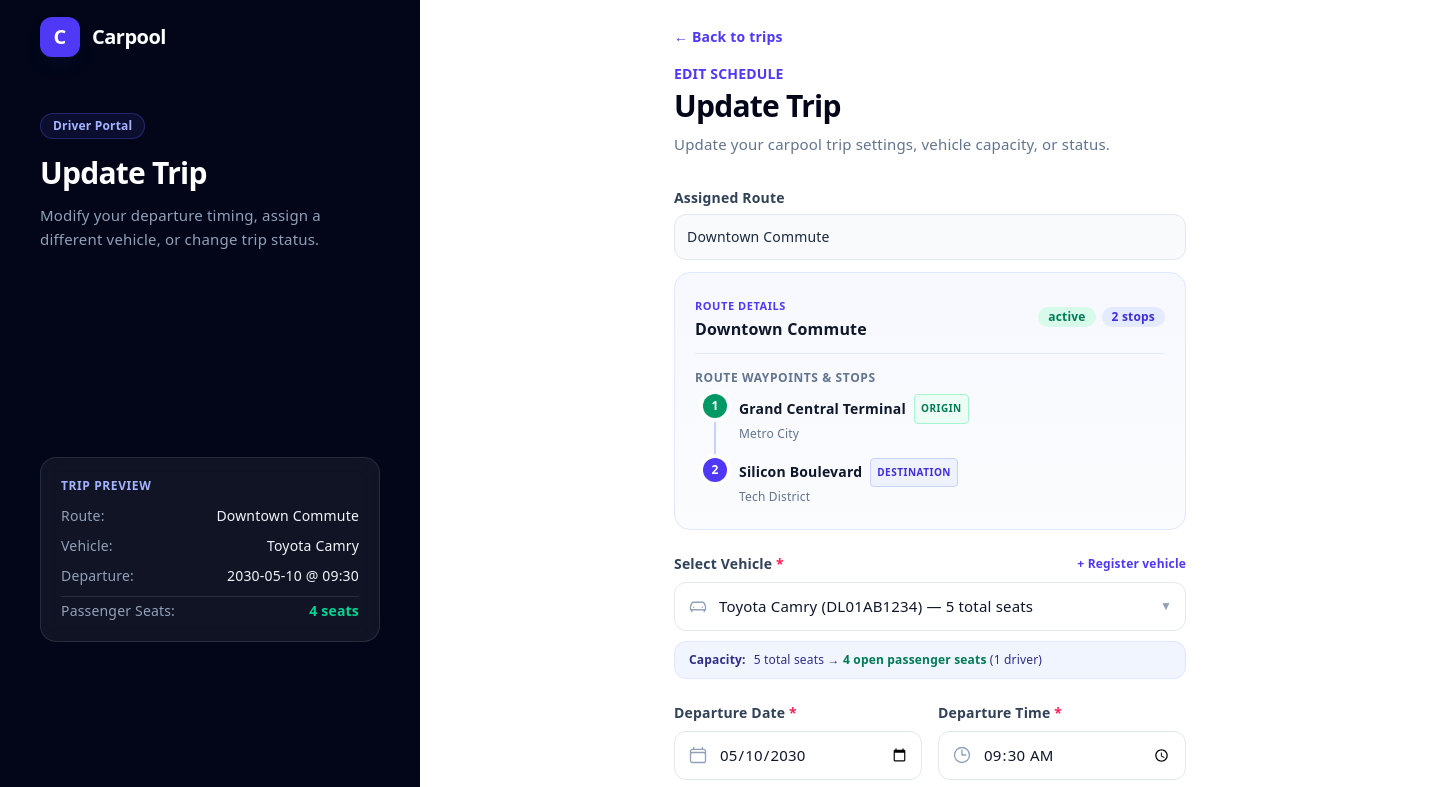
it: EditTripPage › loads existing trip, displays assigned route stops below, and saves updates
Check: the heading "Update Trip" below "Edit Schedule" is shown, box [674,85,841,126]
Check: the text "Grand Central Terminal" is shown, box [739,399,906,419]
// Change departure time
Replace the text in the time field labelled "Departure Time *" with "11:00" at (1062, 756), box [938,731,1186,780]
(page scrolled)
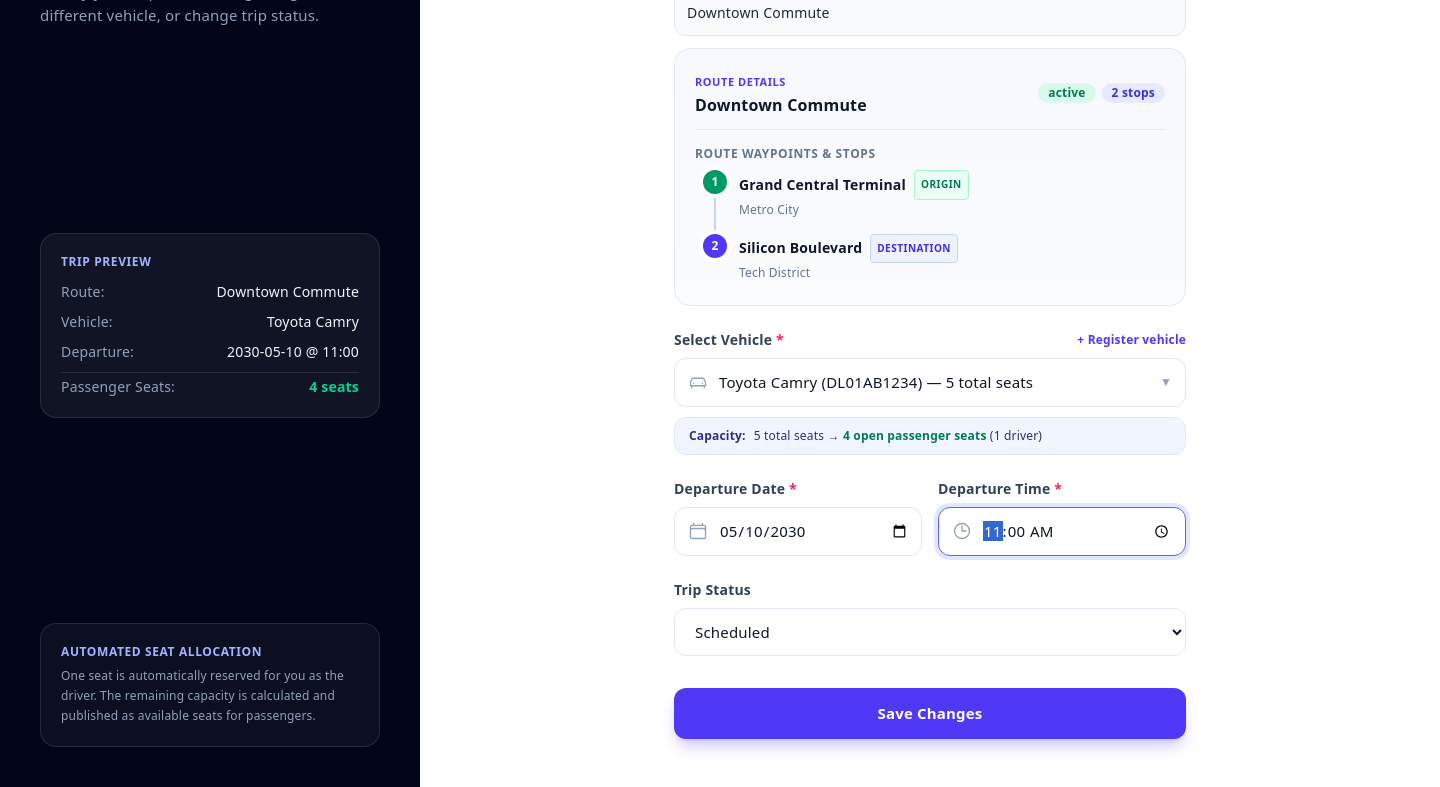
// Submit form
Click the button "Save Changes" at (930, 714), box [674,688,1186,739]
(page scrolled)
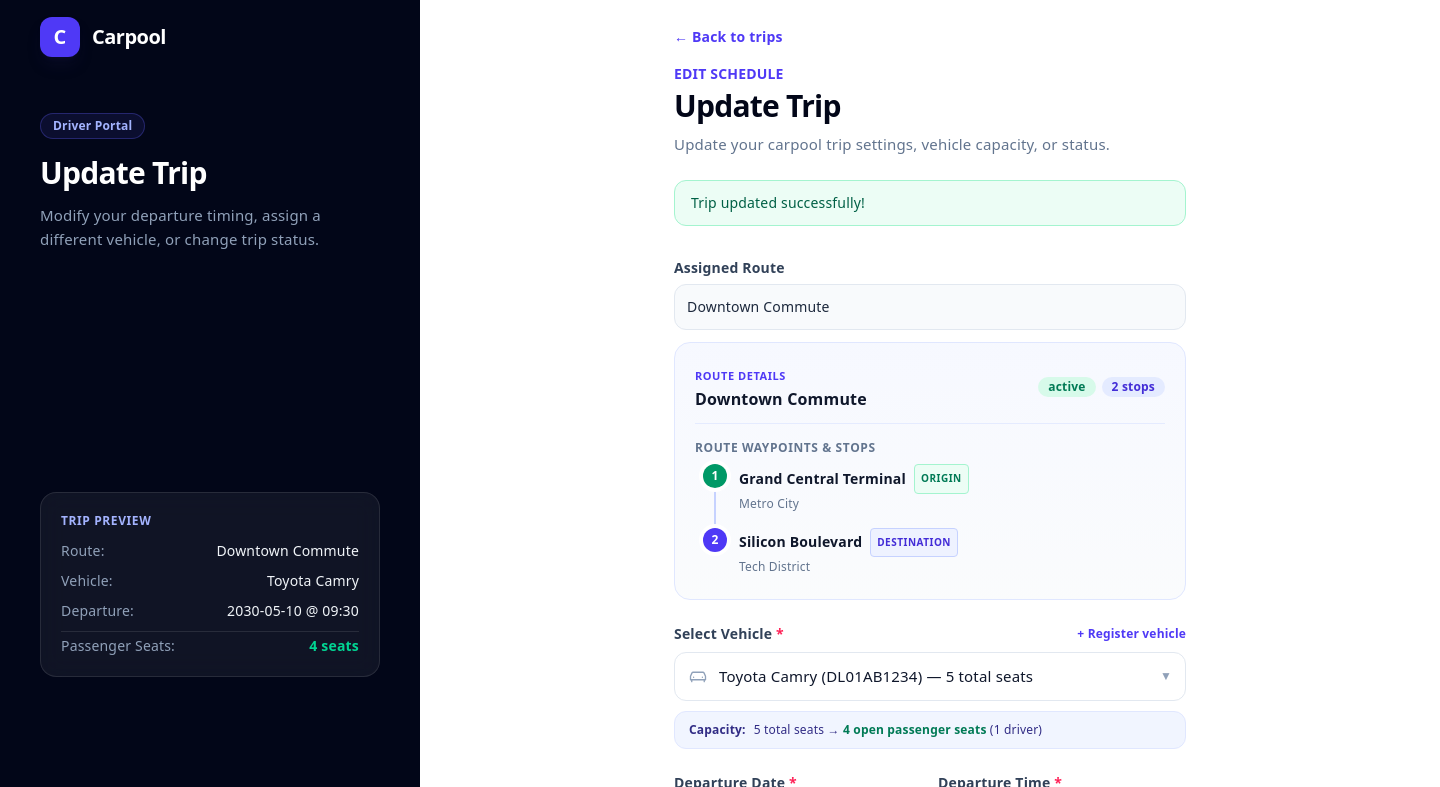
Check: the text "Trip updated successfully!" is shown, box [674,180,1186,226]
